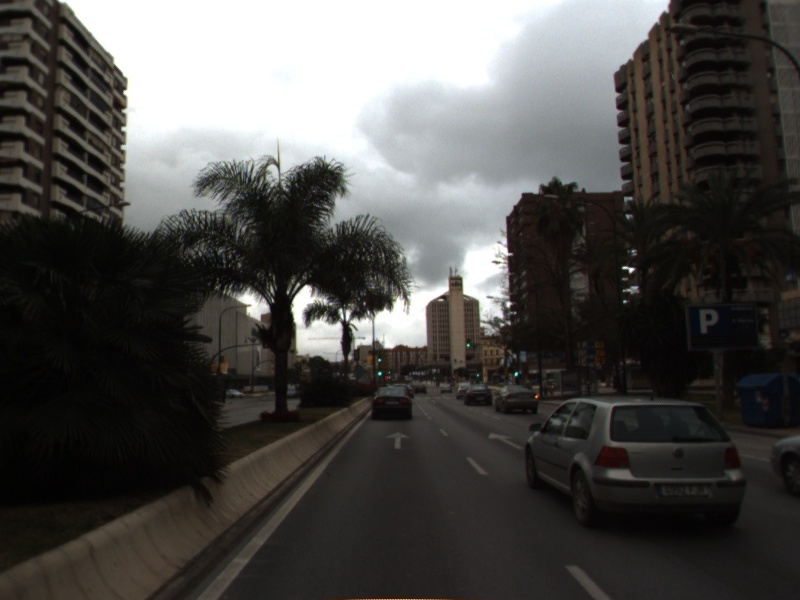STRAIGHT: (486, 430, 526, 451), (383, 429, 413, 451)
